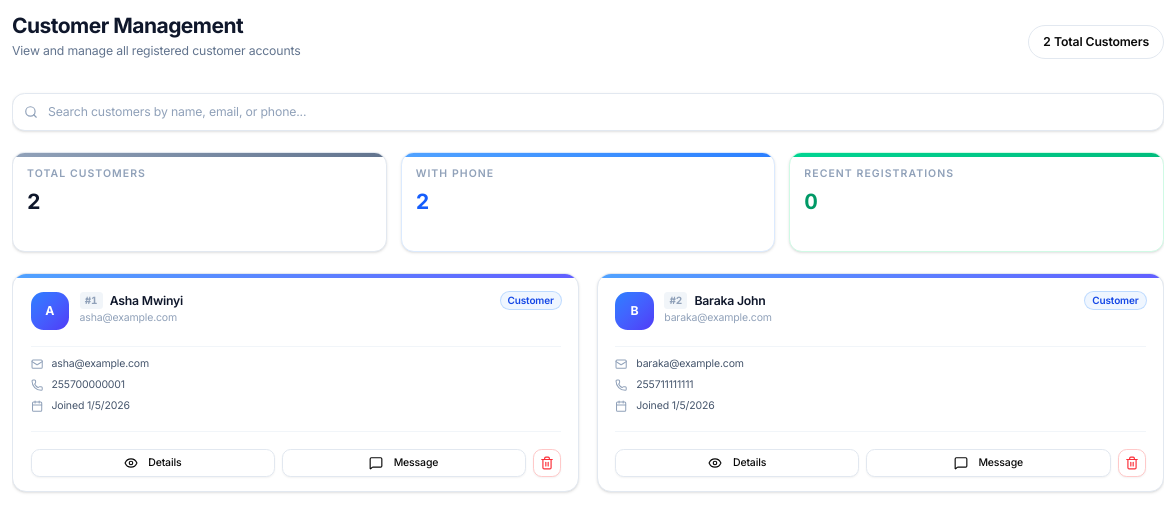
Test: CustomerManagementTab › search › matches by email and by phone too
Later steps or results of the test are not shown.
Expected: the heading "Asha Mwinyi" is shown, [110, 293, 183, 308]
Type "711111111" into the field with placeholder "Search customers by name, email, or phone..." at (588, 112), box [12, 92, 1164, 131]
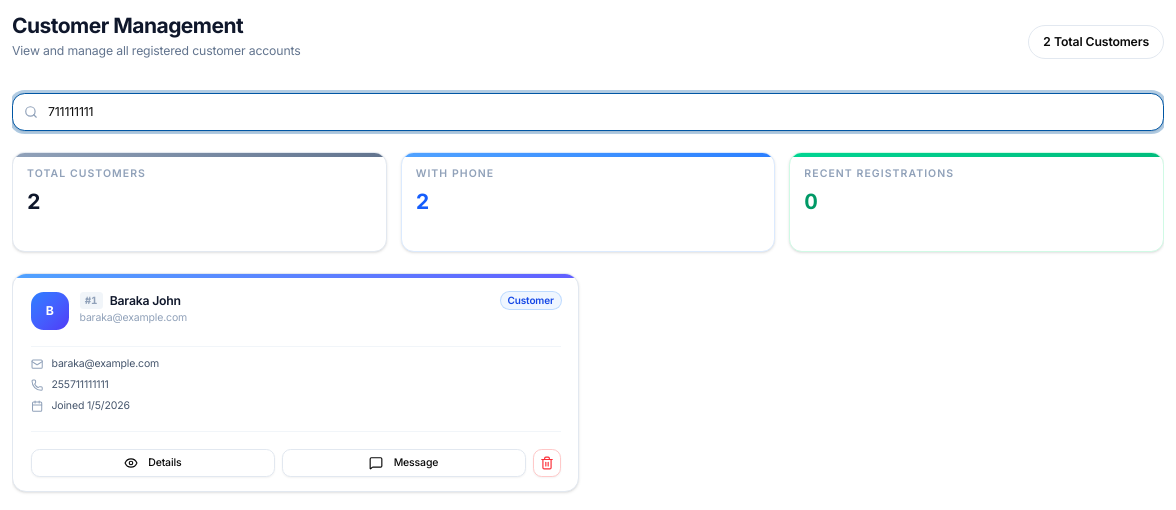
Now the heading "Asha Mwinyi" is gone
